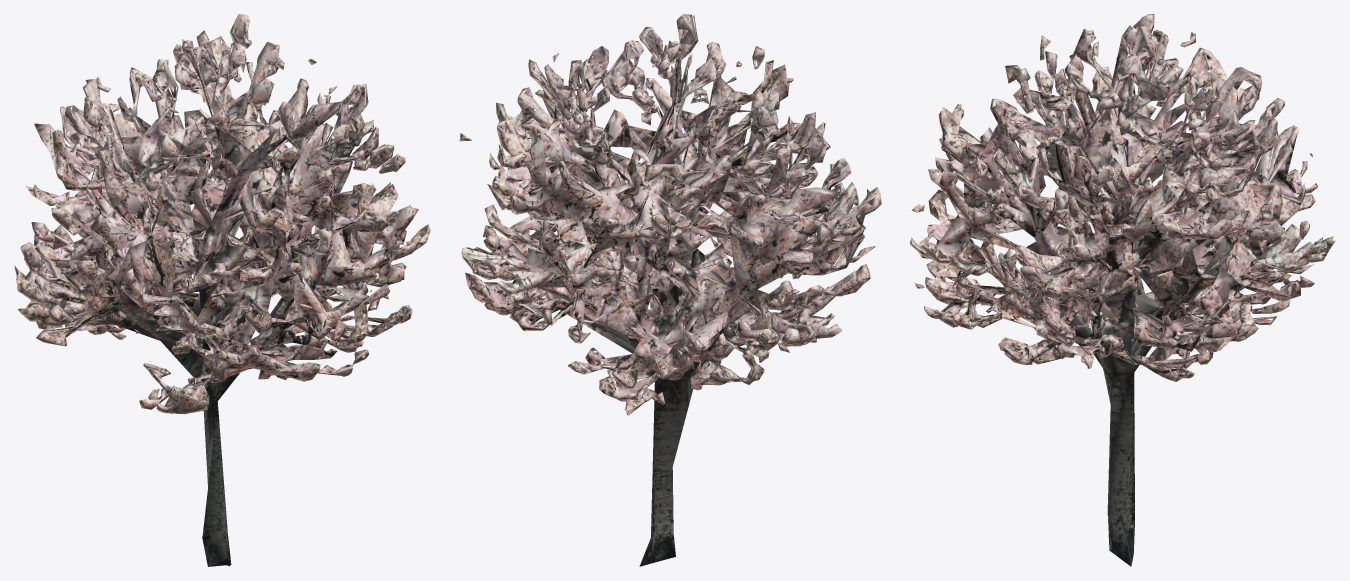
Rendered from cherry.glb.
3 renders of one model, left to right at view 1: azimuth 30°, elevation 25°; view 2: azimuth 150°, elevation 25°; view 3: azimuth 270°, elevation 25°, orthographic.
Visible parts, largest first — view 1: texture_mapping; view 2: texture_mapping; view 3: texture_mapping.
Boxes of the visible parts, box(x1,y1,x2,y2) form: texture_mapping: box(14, 14, 430, 566); texture_mapping: box(459, 14, 881, 566); texture_mapping: box(910, 14, 1335, 566).
Size of the model in its own units: 0.731 by 0.9723 by 0.7152.
1 material, 1 textured.
